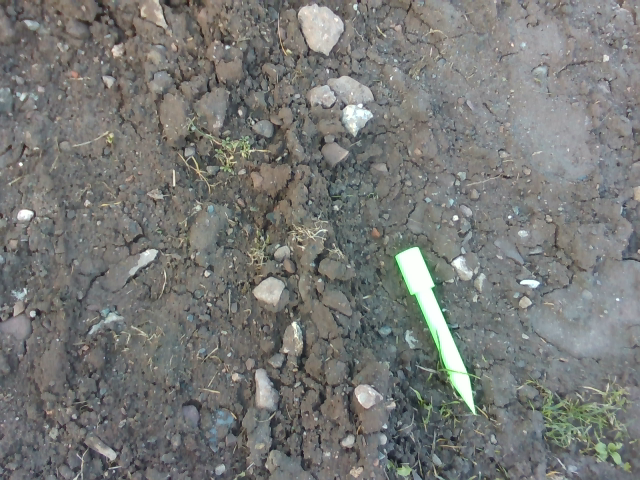Probe: (389, 239, 481, 420)
